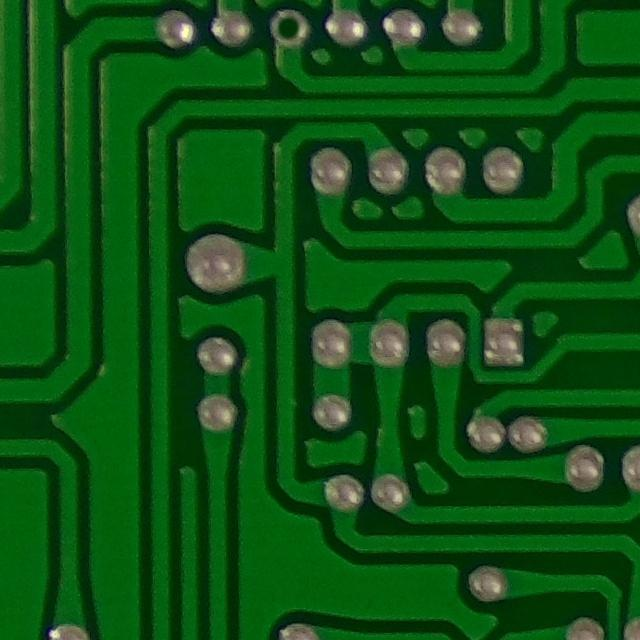missing_hole: (266, 1, 320, 50)
